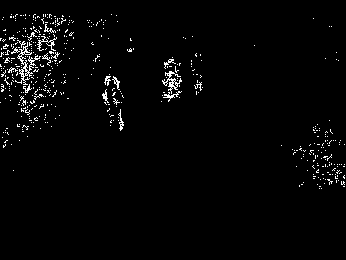person: (101, 74, 131, 132), (189, 54, 206, 94)
